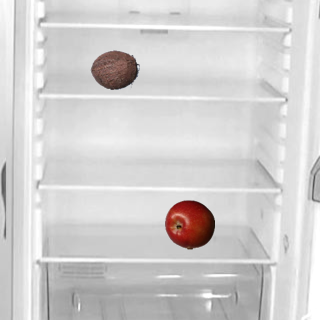Apple Braeburn: (164, 199, 214, 249)
Cocos: (89, 44, 139, 94)
